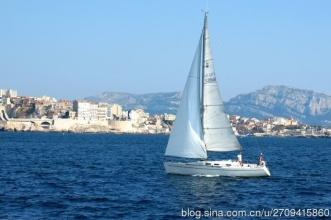fanchuan: (151, 9, 273, 177)
